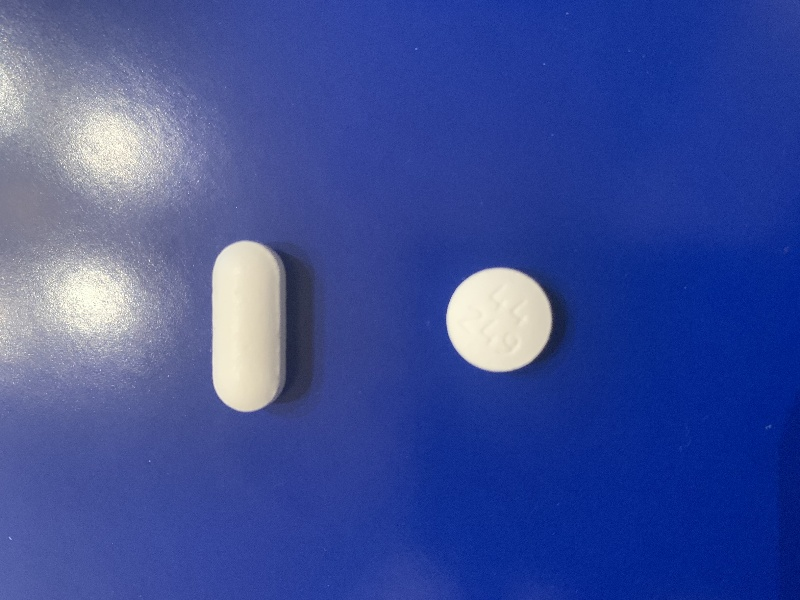Aspirin: (442, 265, 559, 379)
Tylenol: (204, 236, 292, 416)
